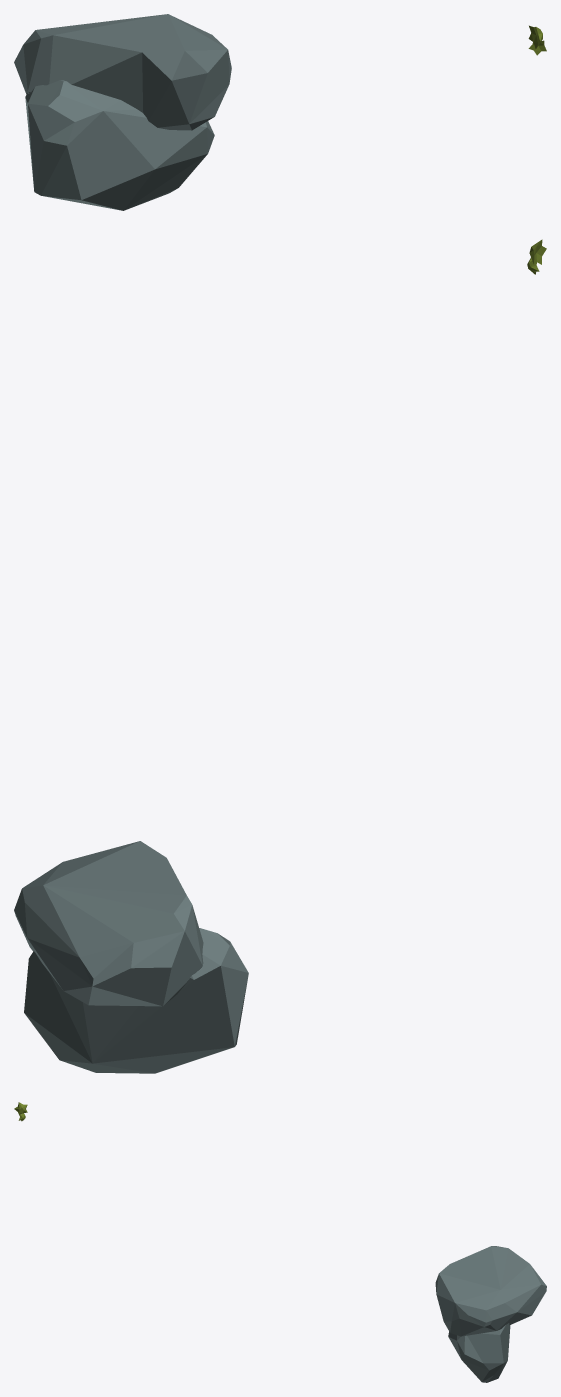
3 views of the same model, one above another, from view 1: azimuth 30°, elevation 25°; view 2: azimuth 150°, elevation 25°; view 3: azimuth 270°, elevation 25° (orthographic). The views are drawn at different scales.
Parts seen in each view (by area): view 1: Box103_rock_0, Box175_rock_0; view 2: Box103_rock_0, Box175_rock_0; view 3: Box103_rock_0, Box175_rock_0.
Boxes of the visible parts, left/top/right/bottom form: Box103_rock_0: left=14, top=14, right=231, bottom=130; Box175_rock_0: left=25, top=80, right=214, bottom=210; Box103_rock_0: left=14, top=841, right=203, bottom=1006; Box175_rock_0: left=24, top=928, right=248, bottom=1073; Box103_rock_0: left=435, top=1246, right=546, bottom=1336; Box175_rock_0: left=448, top=1323, right=510, bottom=1382.
Bounding box in the file's own units: 1206 × 2790 × 4941.
